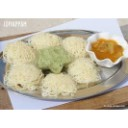idiyappam: (8, 60, 42, 90), (43, 72, 76, 97), (67, 59, 100, 83), (3, 40, 35, 62), (29, 32, 60, 48), (64, 37, 88, 57)
